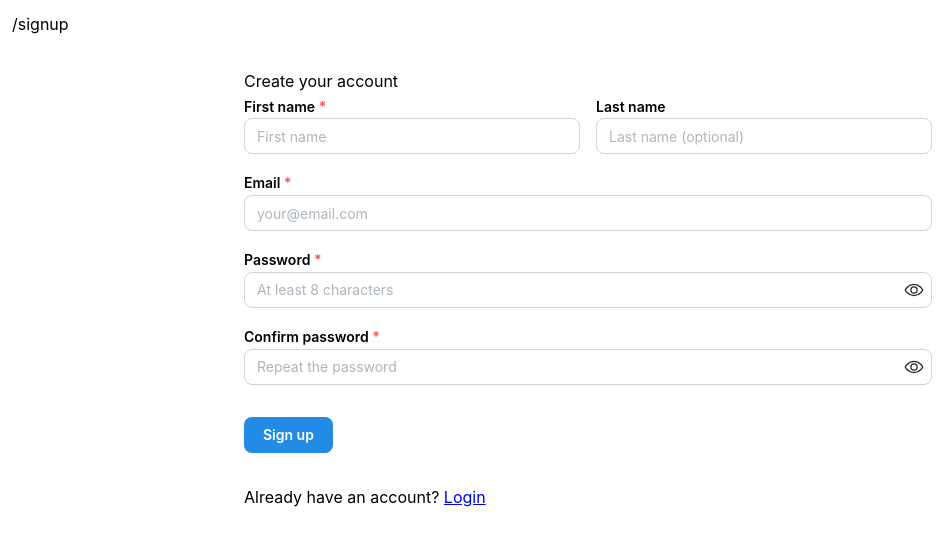
the sign-up page › blocks sign-up when the passwords differ and names the box to fix
The width and height of the screenshot is (949, 543).
Type "Sofía" into the field labelled "First name *".
click(412, 136); type("Sofía")  # box 244,118 -> 580,154
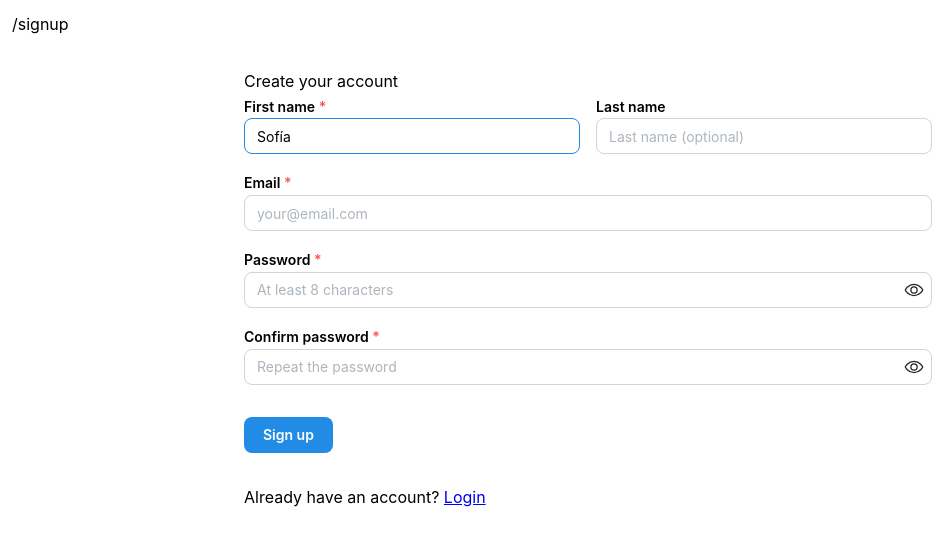
Type "Lara" into the field labelled "Last name".
click(764, 136); type("Lara")  # box 596,118 -> 932,154
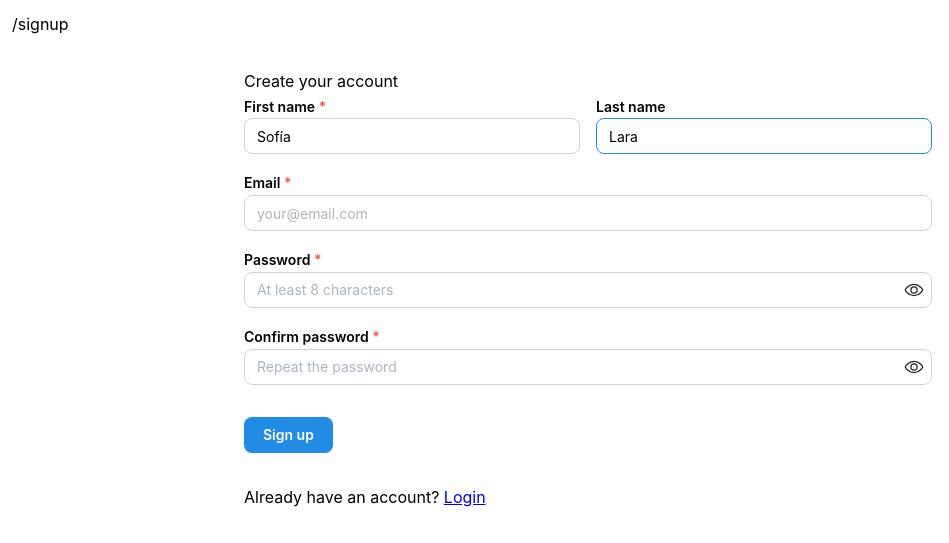
Type "new@example.test" into the field labelled "Email *".
click(588, 213); type("new@example.test")  # box 244,195 -> 932,231
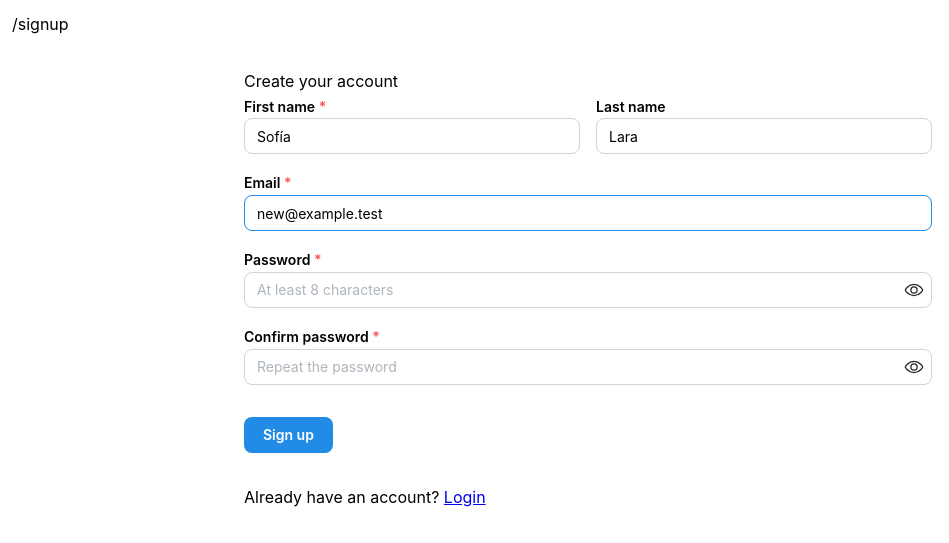
Type "sunlight-123" into the password field labelled "Password *".
click(588, 290); type("sunlight-123")  # box 245,273 -> 931,307
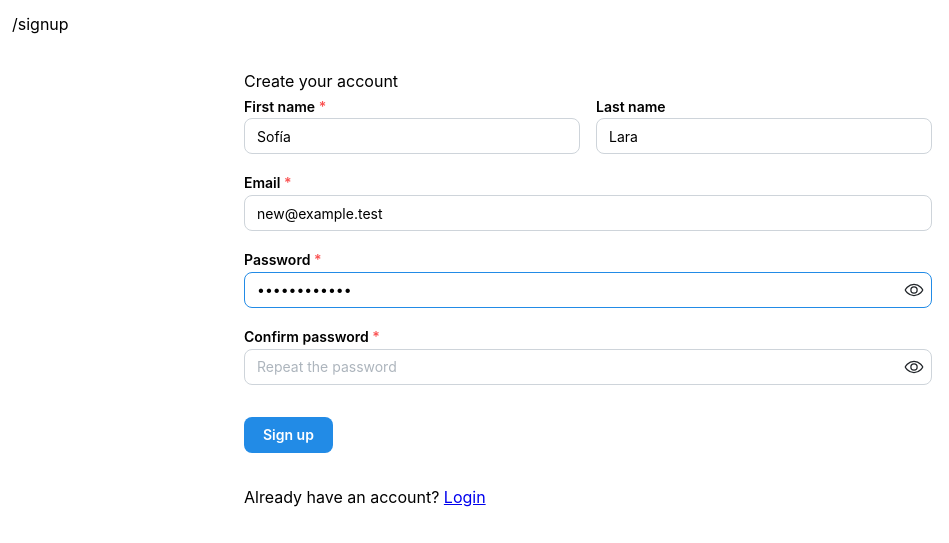
Type "sunlight-124" into the password field labelled "Confirm password *".
click(588, 367); type("sunlight-124")  # box 245,350 -> 931,384
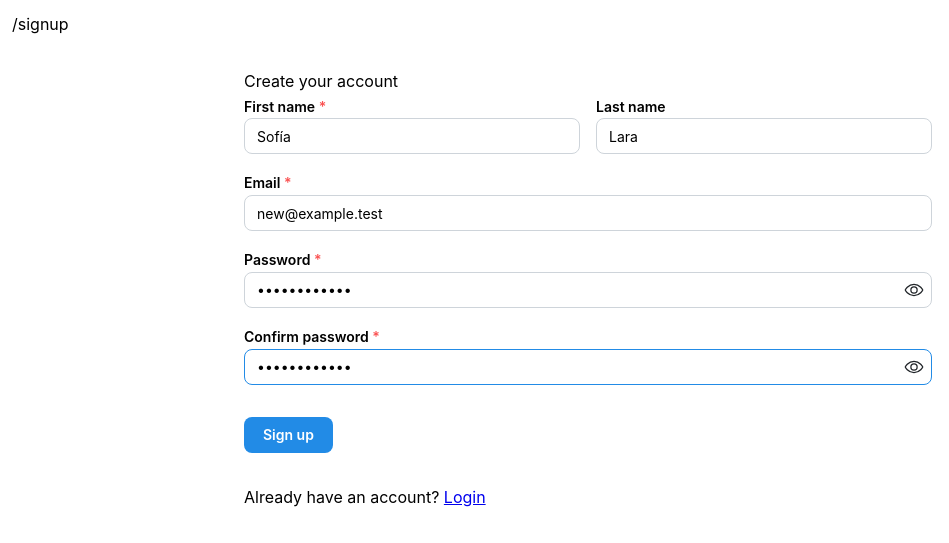
Click the button "Sign up".
click(288, 435)  # box 244,417 -> 333,453
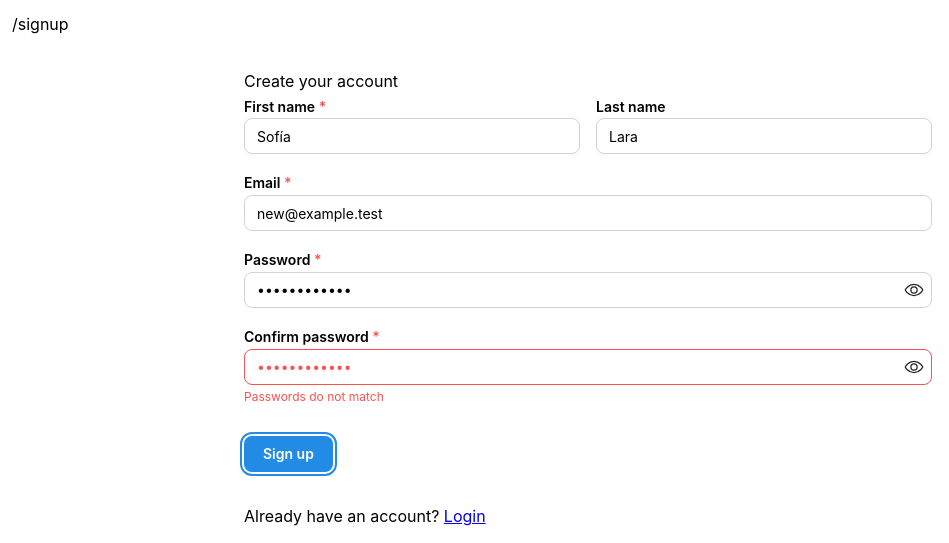
Check: the text with test id "location" reads "/signup", box 12,14 -> 69,34
Check: the text "Passwords do not match" is shown, box 244,389 -> 384,404
